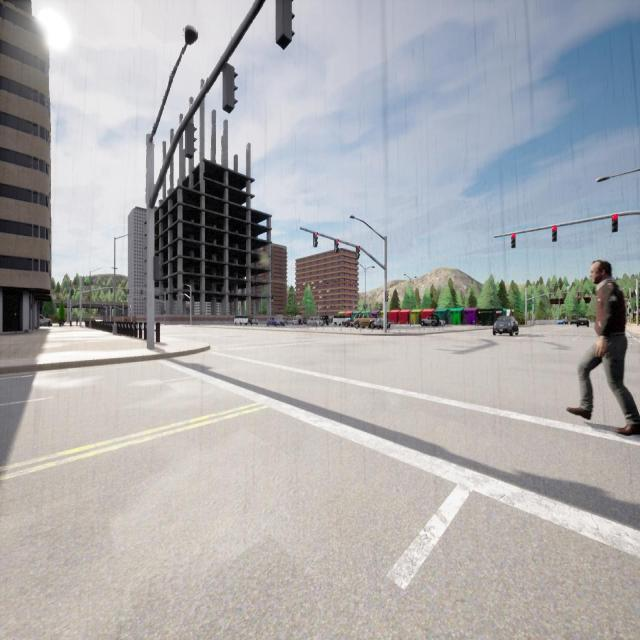Pedestrian: (566, 260, 640, 435)
Vehicle: (493, 316, 518, 336), (354, 313, 373, 328), (421, 316, 439, 327), (267, 316, 284, 326), (333, 316, 350, 326), (373, 318, 390, 328), (234, 314, 248, 325), (307, 316, 322, 326), (39, 315, 52, 326), (286, 316, 300, 326), (577, 318, 589, 327), (321, 316, 329, 325), (250, 317, 258, 325), (570, 317, 577, 325), (558, 319, 568, 324)
traffic_light: (276, 0, 295, 50), (223, 63, 238, 113), (186, 122, 197, 159), (153, 255, 160, 280), (612, 215, 618, 232), (552, 226, 557, 241), (511, 234, 516, 248), (314, 233, 318, 247), (356, 247, 360, 260), (334, 239, 338, 252), (386, 292, 388, 302), (578, 296, 580, 299), (590, 296, 592, 298)
